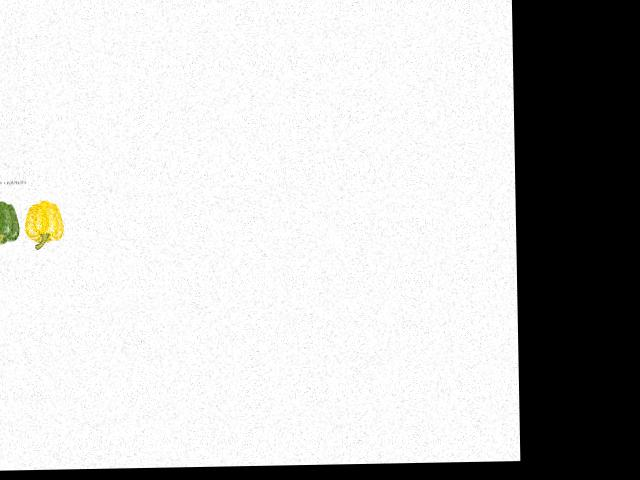bell_pepper: (22, 196, 66, 249)
